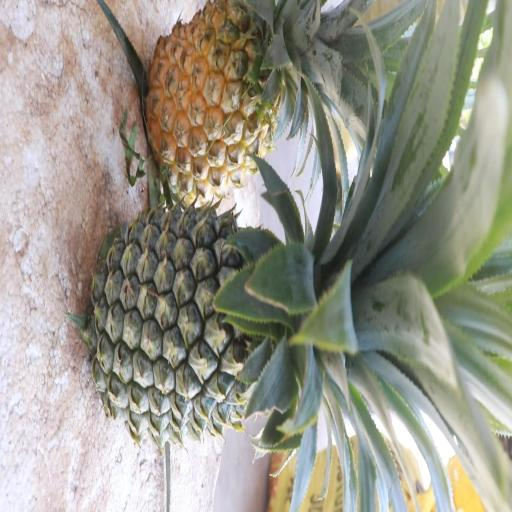Pineapple - v8 v1: (146, 0, 373, 190)
